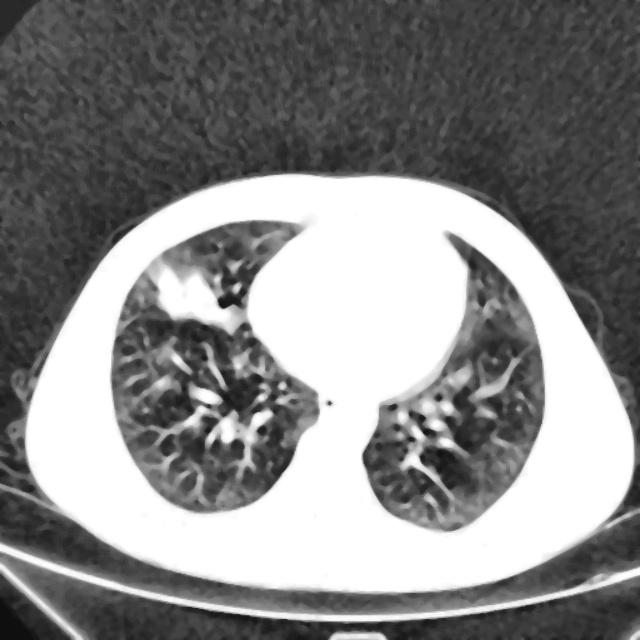covid: (23, 171, 635, 594)
